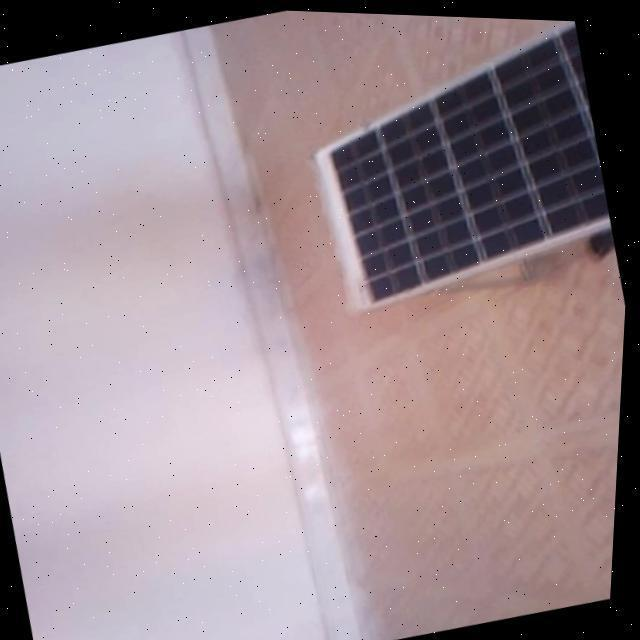Normal Solar Panel: (288, 8, 629, 320)
